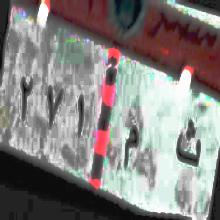1: (72, 90, 92, 148)
2: (16, 67, 37, 140)
7: (43, 80, 66, 147)
meem: (119, 109, 142, 186)
thaa: (171, 112, 208, 179)
